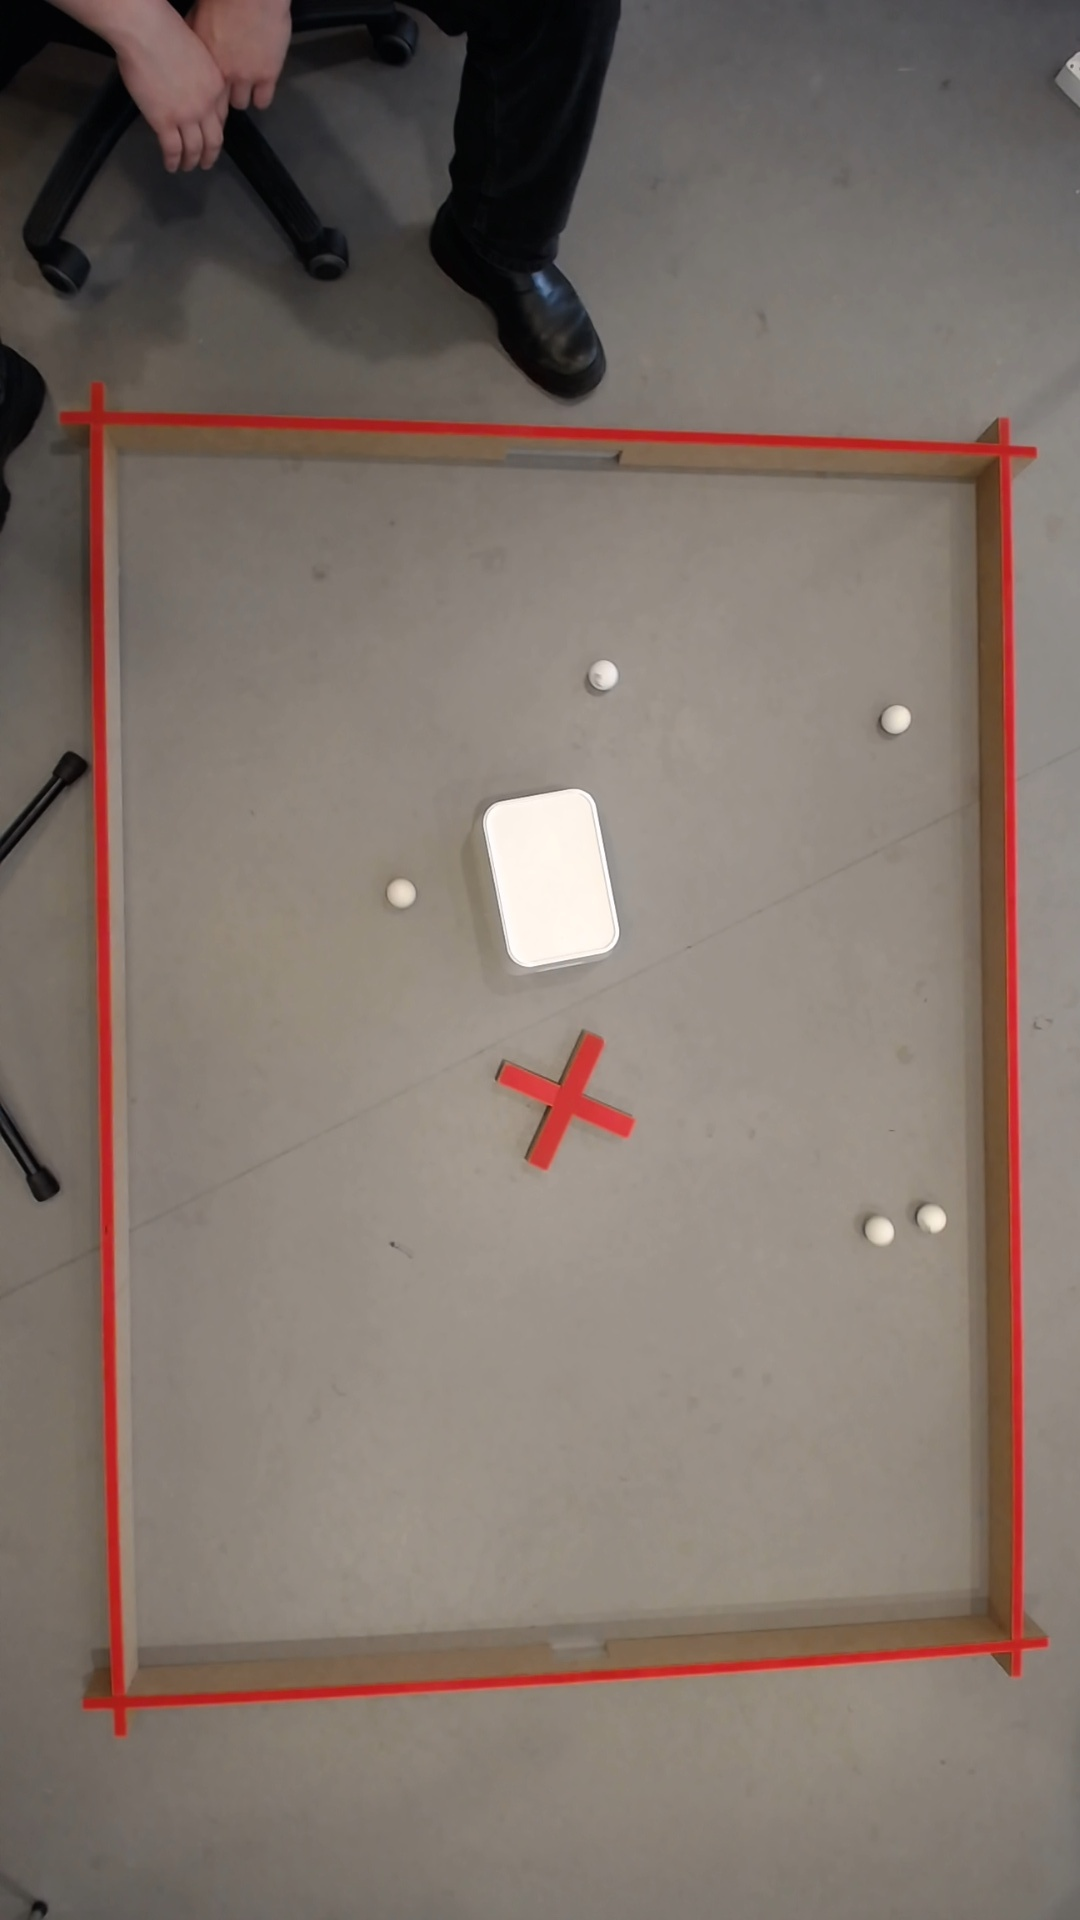balls: (477, 782, 622, 972), (866, 1215, 898, 1247), (591, 657, 621, 690), (884, 702, 914, 735), (919, 1203, 949, 1234)
car: (394, 882, 413, 902)
